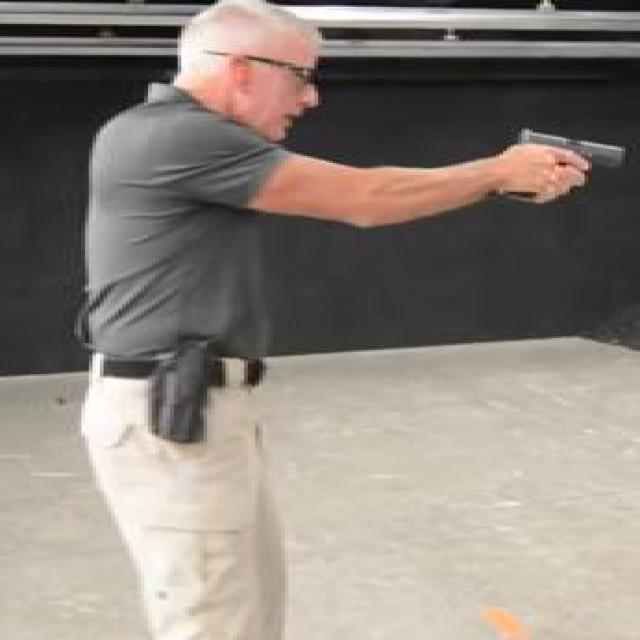gun: (496, 121, 626, 202)
